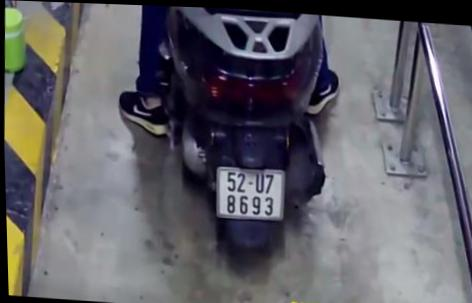LP: (211, 161, 288, 221)
